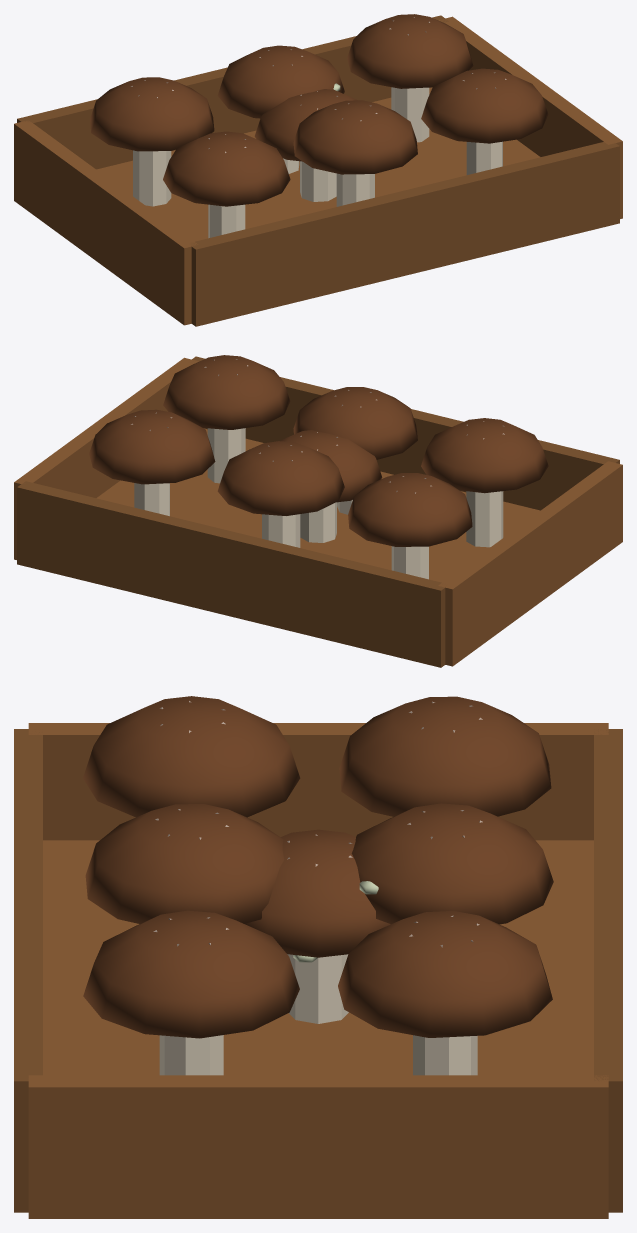
File: Mush_Shiitake.fbx
3 views of the same model, one above another, from view 1: azimuth 30°, elevation 25°; view 2: azimuth 150°, elevation 25°; view 3: azimuth 270°, elevation 25° (orthographic). The views are drawn at different scales.
Visible parts, largest first — view 1: Mush_Shiitake__Stack, Mush_Shiitake; view 2: Mush_Shiitake__Stack, Mush_Shiitake; view 3: Mush_Shiitake__Stack, Mush_Shiitake.
Part boxes in pixels (<box>): Mush_Shiitake__Stack: <box>14,14,622,326</box>; Mush_Shiitake: <box>254,89,357,201</box>; Mush_Shiitake__Stack: <box>14,355,622,667</box>; Mush_Shiitake: <box>280,430,382,542</box>; Mush_Shiitake__Stack: <box>14,696,622,1218</box>; Mush_Shiitake: <box>245,829,390,1023</box>.
Bounding box in the file's own units: 0.238 × 0.066 × 0.168.
